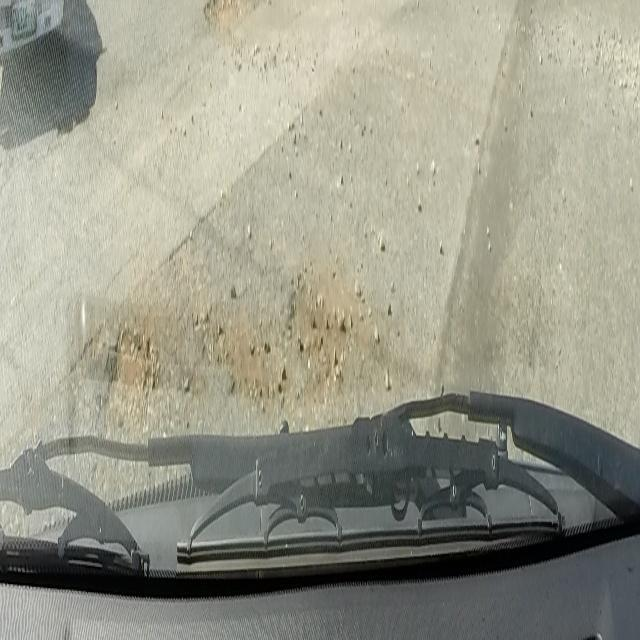pothole: (99, 311, 162, 449), (286, 266, 341, 374), (203, 0, 255, 35)
